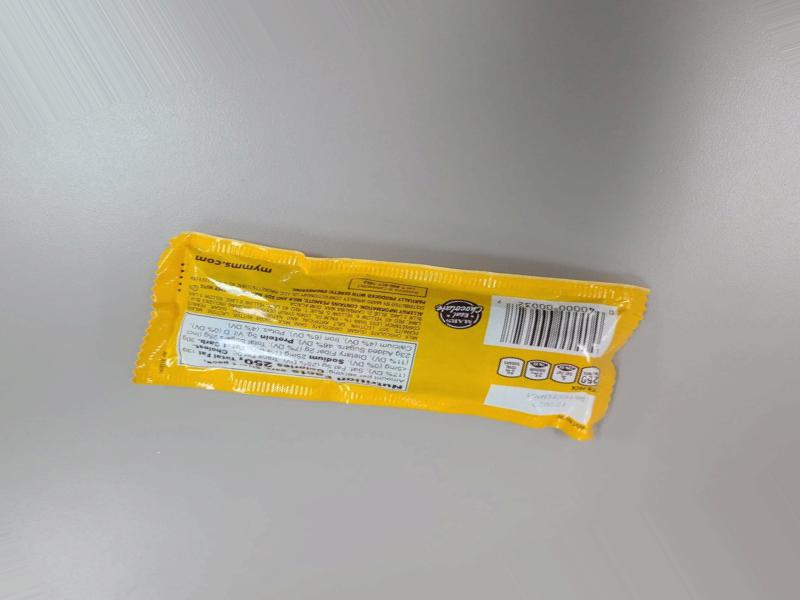m&m: (121, 218, 617, 429)
